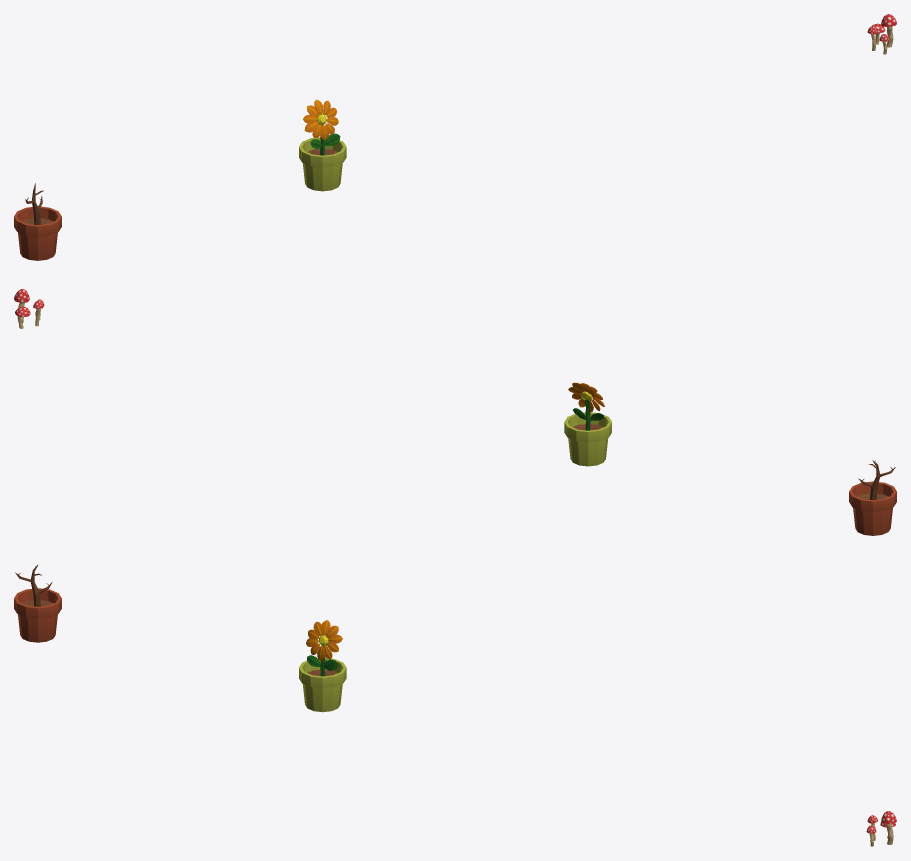
Rendered from FlowersShooms.fbx.
3 renders of one model, top to bottom at view 1: azimuth 30°, elevation 25°; view 2: azimuth 150°, elevation 25°; view 3: azimuth 330°, elevation 25°, orthographic.
Parts seen in each view (by area): view 1: Flor, VasoPlantaMorta; view 2: Flor, VasoPlantaMorta; view 3: Flor, VasoPlantaMorta.
Boxes of the visible parts, x1,y1,x2,y2 form: Flor: (299, 99, 346, 191); VasoPlantaMorta: (14, 183, 61, 260); Flor: (564, 382, 611, 466); VasoPlantaMorta: (849, 460, 896, 535); Flor: (299, 620, 346, 712); VasoPlantaMorta: (14, 564, 61, 642).
Size of the model in its own units: 1629 by 144 by 76.82.
Materials: 2 (1 with a texture image).
